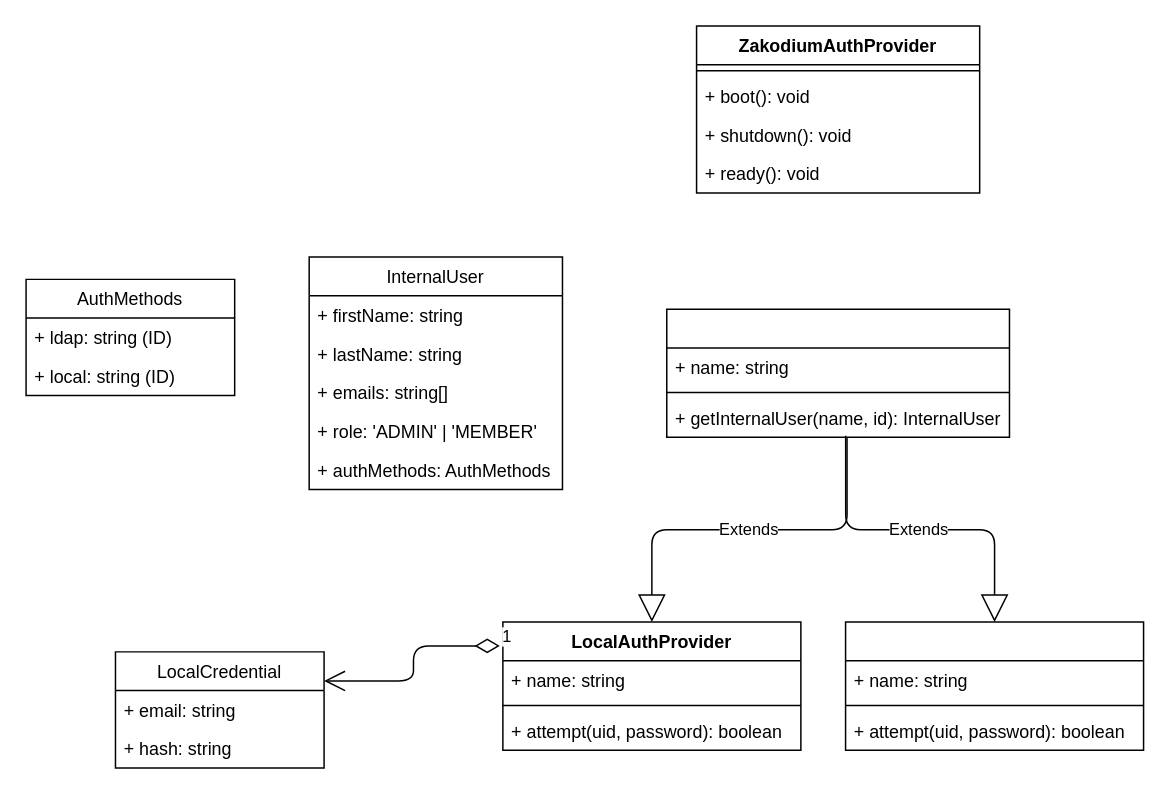
This 1170x799 diagram has some shape labels left out. Here are the shapes that lost their labels. From the top down, the box of each, then its label:
(665, 308, 1009, 437): AuthManager
(844, 621, 1144, 750): LdapAuthProvider
